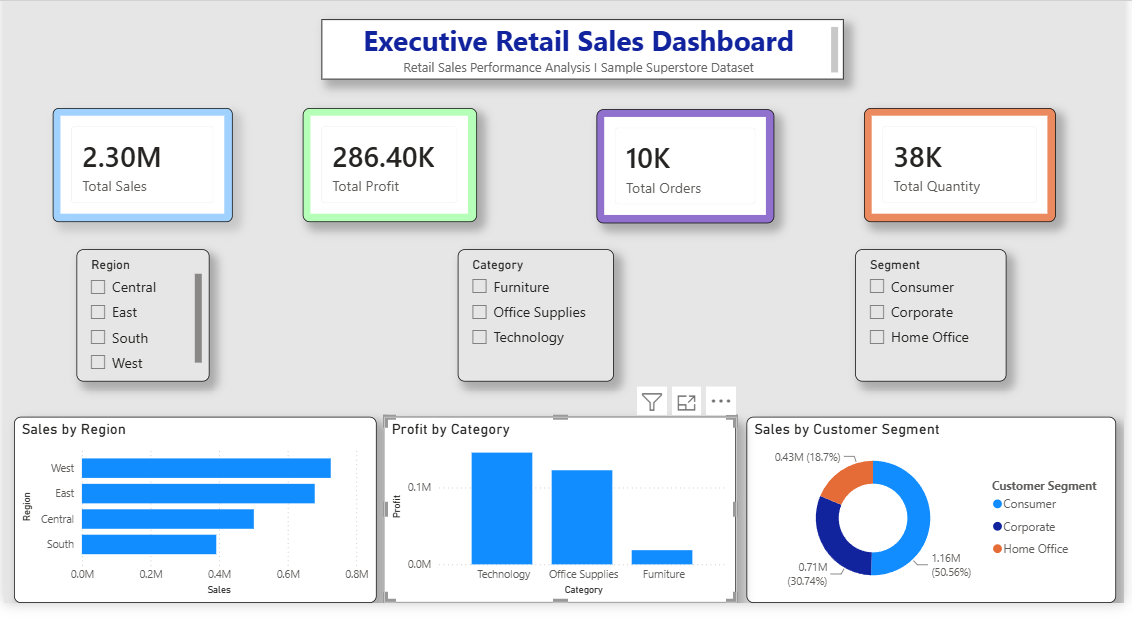

The page's visual inventory and layout, read from the dashboard file:
{"tool":"powerbi","page":{"name":"Page 1","canvas":[1280,720],"ordinal":0},"visuals":[{"type":"clusteredBarChart","fields":{"Category":["SampleSuperstore.Region"],"Y":["Sum(SampleSuperstore.Total Sales)"]},"box":[11,507.7,414.4,212.7],"z":1000},{"type":"clusteredColumnChart","fields":{"Category":["SampleSuperstore.Category"],"Y":["Sum(SampleSuperstore.Profit)"]},"box":[435,507.7,402.1,212.7],"z":2000},{"type":"donutChart","fields":{"Category":["SampleSuperstore.Segment"],"Y":["Sum(SampleSuperstore.Total Sales)"]},"box":[848,507.7,422.6,212.7],"z":3000},{"type":"slicer","fields":{"Values":["SampleSuperstore.Region"]},"box":[82.3,315.6,152.3,150.9],"z":4000},{"type":"slicer","fields":{"Values":["SampleSuperstore.Category"]},"box":[518.7,315.6,178.4,150.9],"z":5000},{"type":"slicer","fields":{"Values":["SampleSuperstore.Segment"]},"box":[972.9,315.6,172.9,150.9],"z":6000},{"type":"textbox","box":[0,52.1,1270.7,68.6],"z":7000},{"type":"cardVisual","fields":{"Data":["Sum(SampleSuperstore.Total Sales)"]},"box":[56.3,153.7,205.8,130.4],"z":7001},{"type":"cardVisual","fields":{"Data":["Sum(SampleSuperstore.Profit)"]},"box":[341.7,153.7,199,130.4],"z":7002},{"type":"cardVisual","fields":{"Data":["SampleSuperstore.Total Orders"]},"box":[1019.6,153.7,203.1,130.4],"z":7003},{"type":"cardVisual","fields":{"Data":["Sum(SampleSuperstore.Quantity)"]},"box":[628.5,153.7,219.6,130.4],"z":7004}]}

Visuals, with their boxes in screenshot pixels (x1, y1, x2, y2), scaled from the page's 1280x720 canvas onto the 1132x640 screenshot:
clusteredBarChart - SampleSuperstore.Region x Sum(SampleSuperstore.Total Sales): 10:451:376:639
clusteredColumnChart - SampleSuperstore.Category x Sum(SampleSuperstore.Profit): 385:451:740:639
donutChart - SampleSuperstore.Segment x Sum(SampleSuperstore.Total Sales): 750:451:1124:639
slicer - SampleSuperstore.Region: 73:281:207:415
slicer - SampleSuperstore.Category: 459:281:616:415
slicer - SampleSuperstore.Segment: 860:281:1013:415
textbox: 0:46:1124:107
cardVisual - Sum(SampleSuperstore.Total Sales): 50:137:232:253
cardVisual - Sum(SampleSuperstore.Profit): 302:137:478:253
cardVisual - SampleSuperstore.Total Orders: 902:137:1081:253
cardVisual - Sum(SampleSuperstore.Quantity): 556:137:750:253
